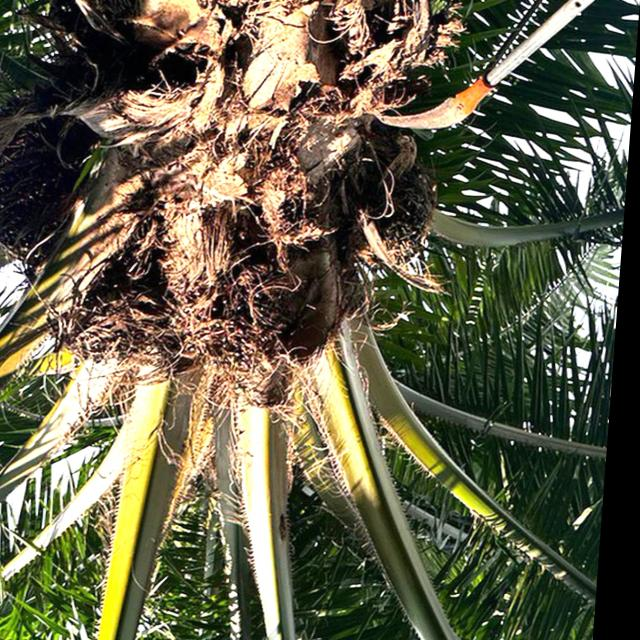ripe: (373, 168, 443, 260)
